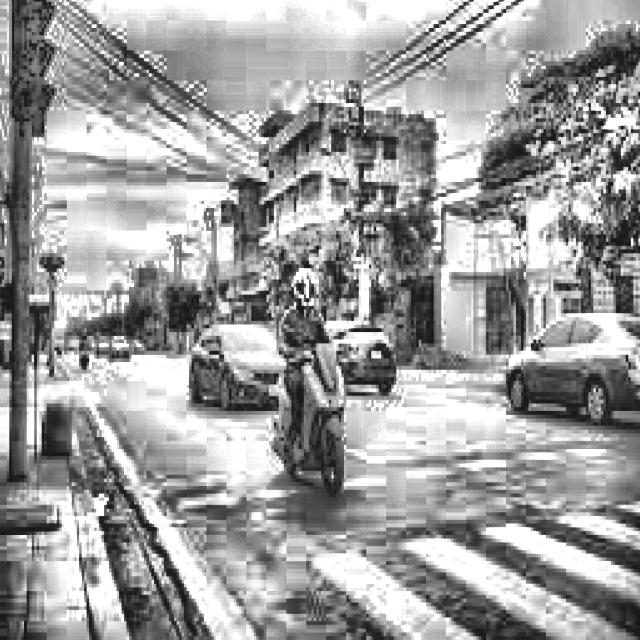Helmet: (287, 254, 324, 312)
